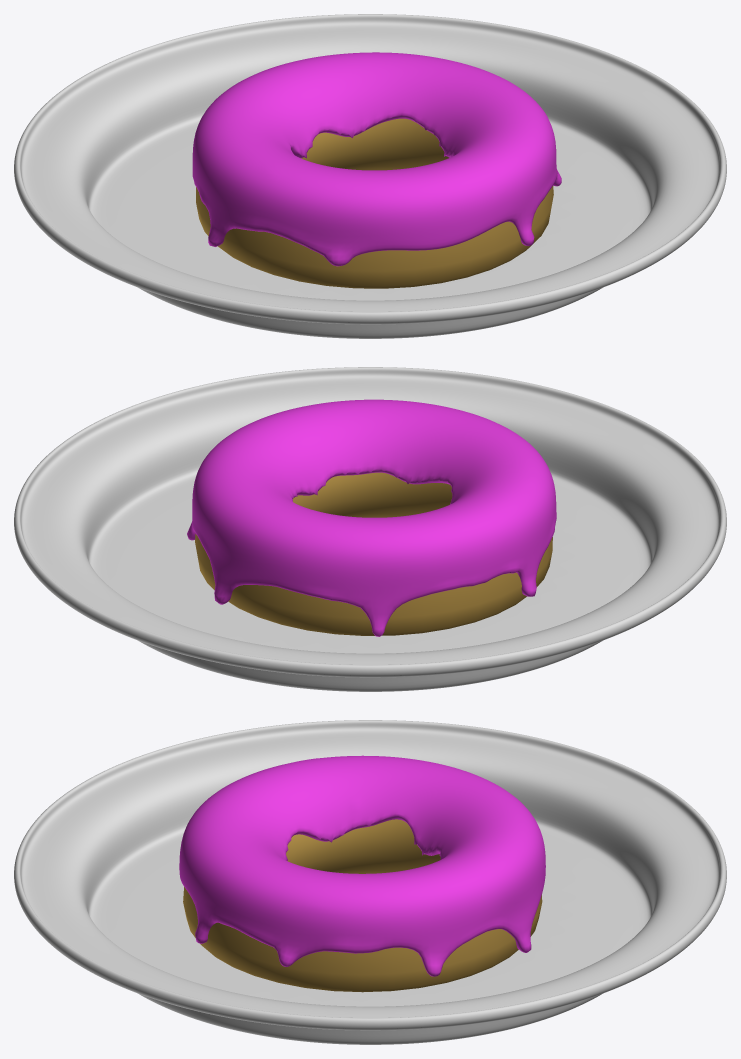
The model's file is donut.fbx.
3 renders of one model, top to bottom at view 1: azimuth 30°, elevation 25°; view 2: azimuth 150°, elevation 25°; view 3: azimuth 270°, elevation 25°, orthographic.
Visible parts, largest first — view 1: Circle, Torus.002, Torus; view 2: Circle, Torus.002, Torus; view 3: Circle, Torus.002, Torus.
Boxes of the visible parts, left/top/right/bottom form: Circle: left=14, top=14, right=726, bottom=338; Torus.002: left=192, top=52, right=561, bottom=266; Torus: left=196, top=118, right=553, bottom=288; Circle: left=14, top=367, right=726, bottom=691; Torus.002: left=187, top=399, right=556, bottom=636; Torus: left=195, top=472, right=552, bottom=635; Circle: left=14, top=720, right=726, bottom=1044; Torus.002: left=179, top=755, right=545, bottom=976; Torus: left=183, top=819, right=542, bottom=992.
Size of the model in its own units: 245 by 42.48 by 245.
